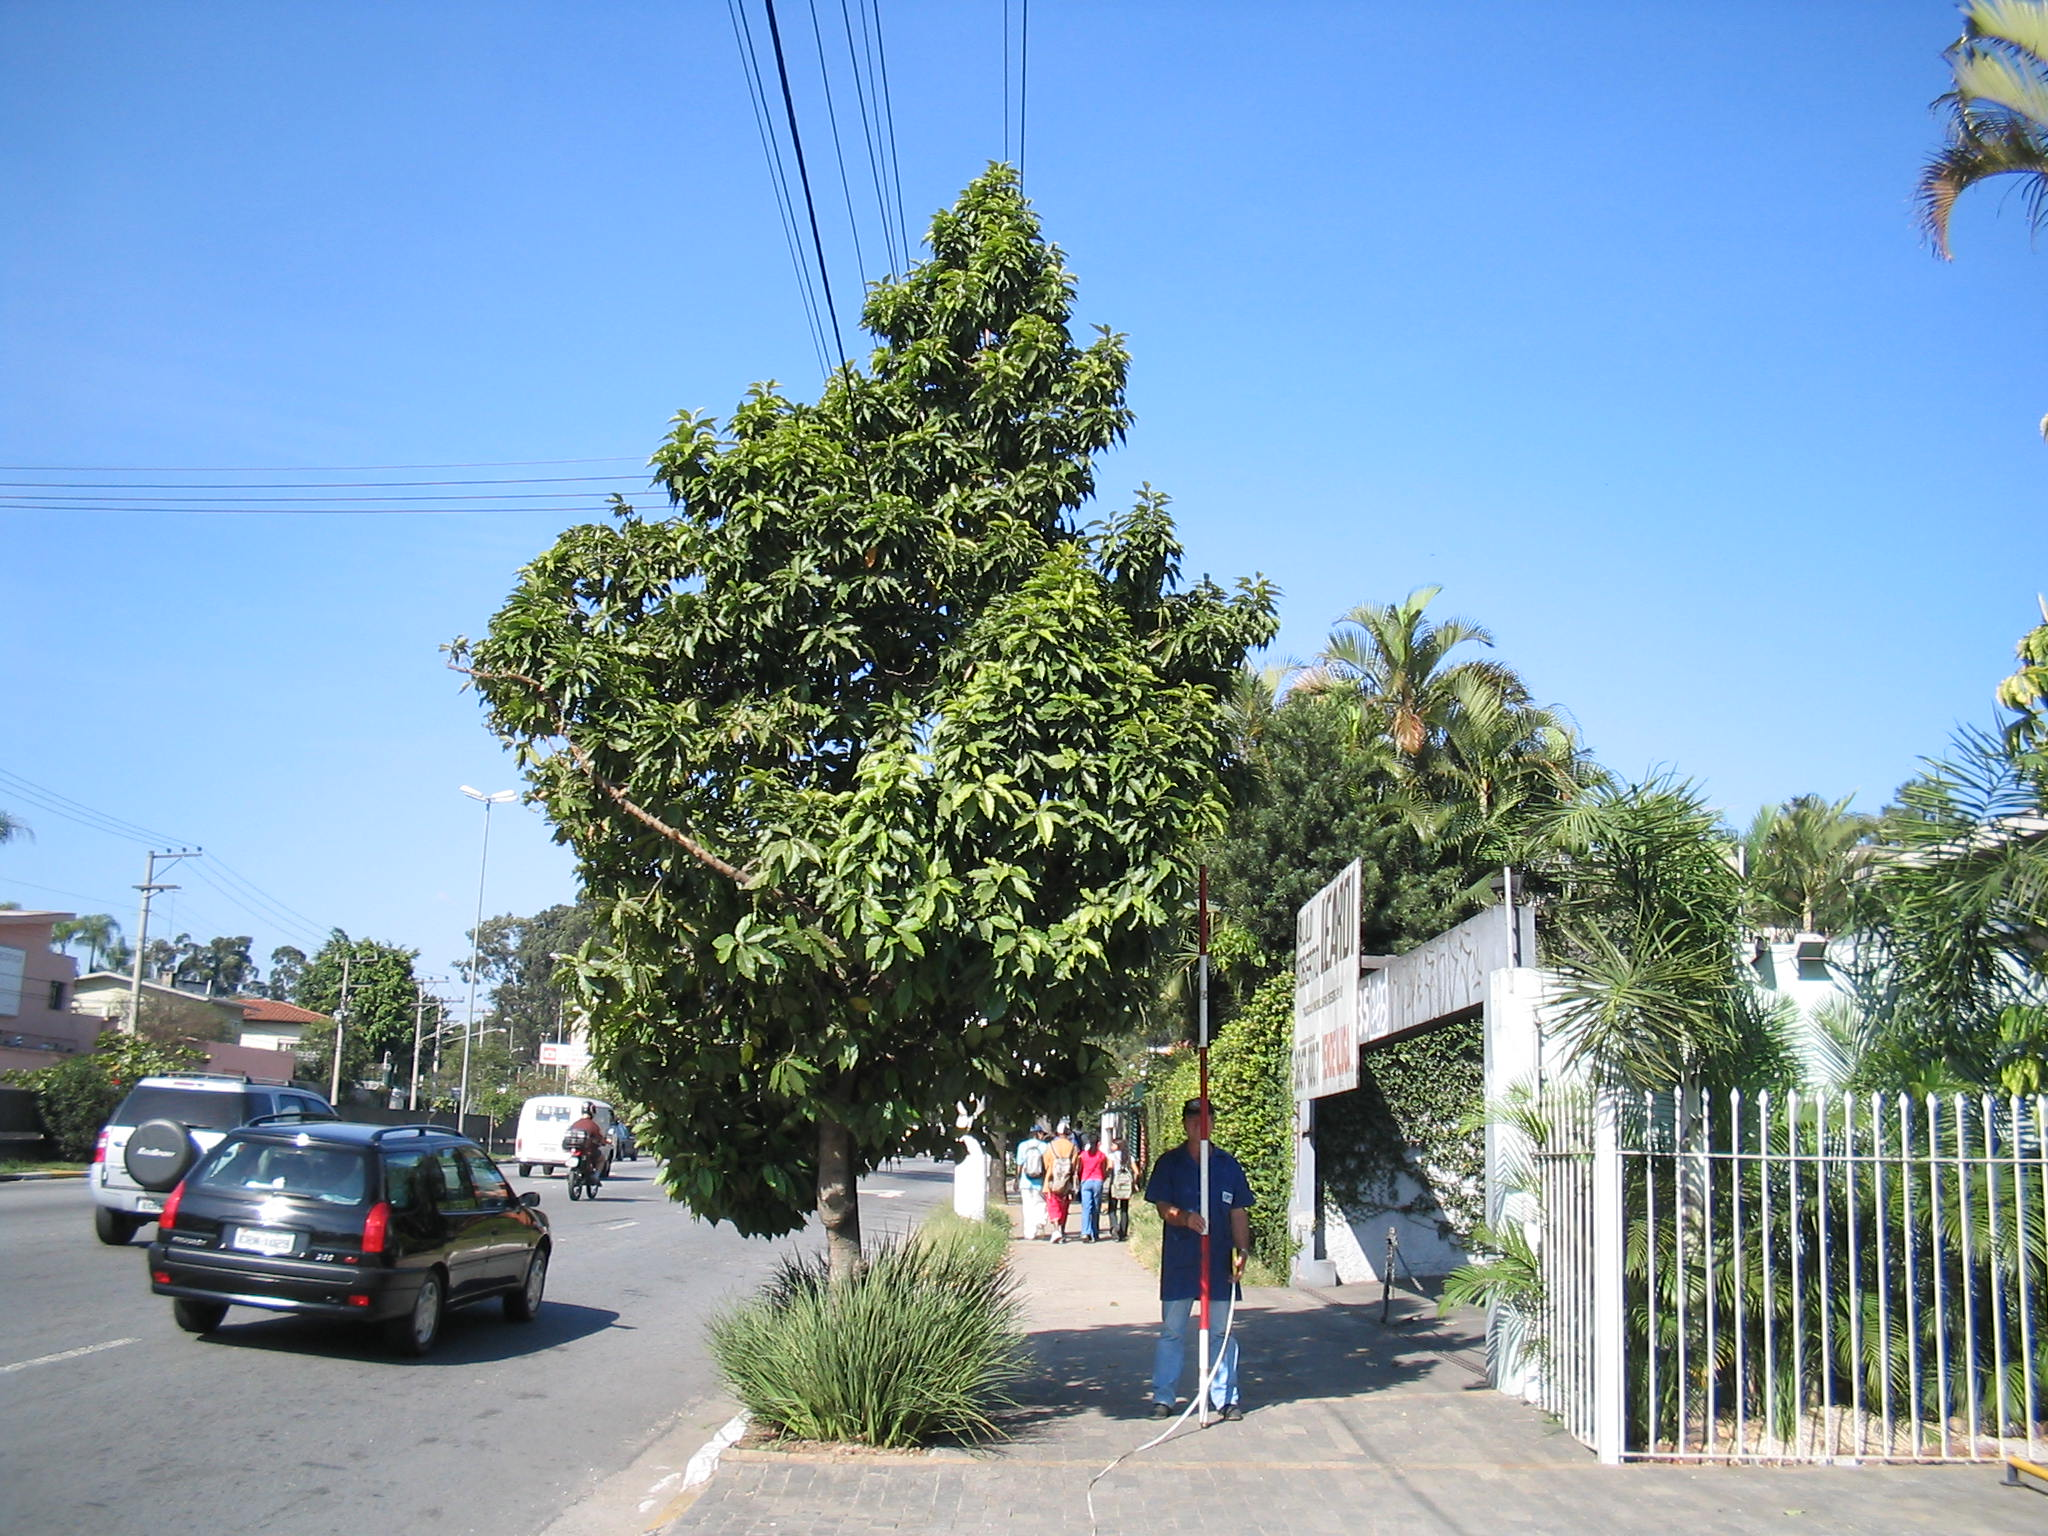crown: (452, 157, 1280, 1236)
stem: (774, 1134, 885, 1425)
stick: (1176, 865, 1222, 1428)
tree: (447, 152, 1284, 1428)
